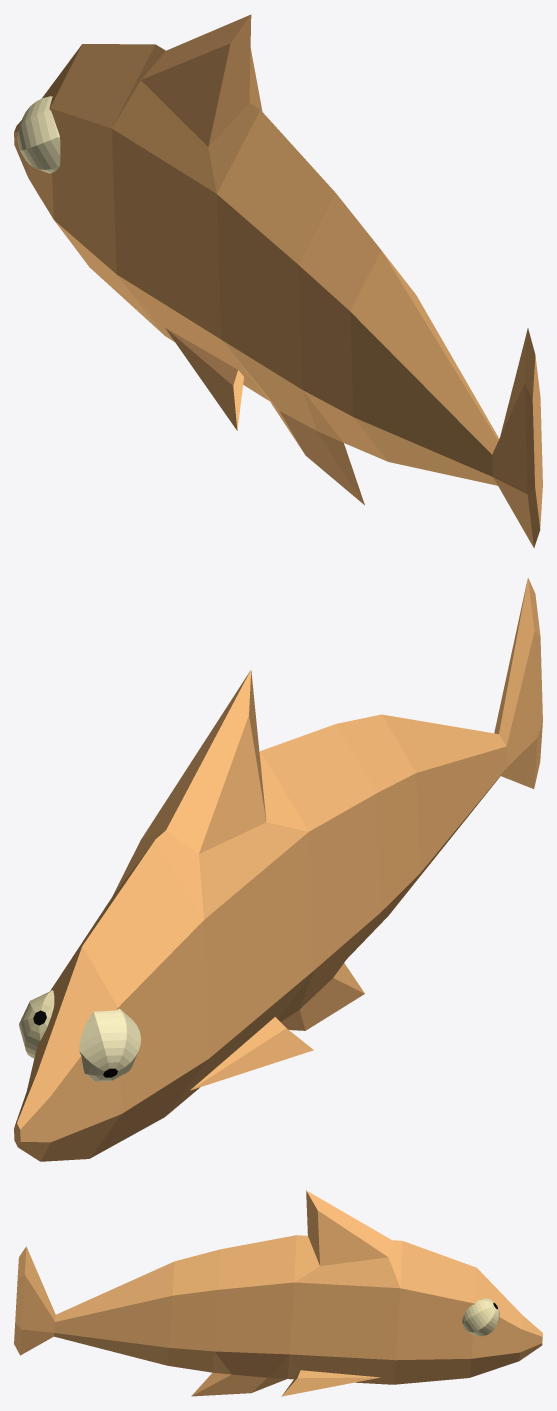
Rendered from Fish1_V1.0.fbx.
The picture shows the model from 3 angles, top to bottom: view 1: azimuth 30°, elevation 25°; view 2: azimuth 150°, elevation 25°; view 3: azimuth 270°, elevation 25°; orthographic projection. The views are drawn at different scales.
Visible parts, largest first — view 1: Fish, Sphere.001; view 2: Fish, Sphere.001, Sphere; view 3: Fish, Sphere.
Part boxes in pixels (left/top/right/bottom): Fish: left=14, top=14, right=542, bottom=548; Sphere.001: left=17, top=96, right=60, bottom=173; Fish: left=14, top=578, right=542, bottom=1161; Sphere.001: left=79, top=1008, right=140, bottom=1081; Sphere: left=19, top=990, right=54, bottom=1058; Fish: left=14, top=1190, right=542, bottom=1396; Sphere: left=462, top=1298, right=499, bottom=1336.
Bounding box in the file's own units: 10.99 × 38.79 × 90.19.
